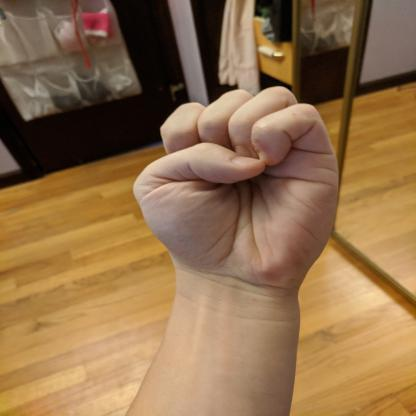E: (127, 84, 345, 296)
